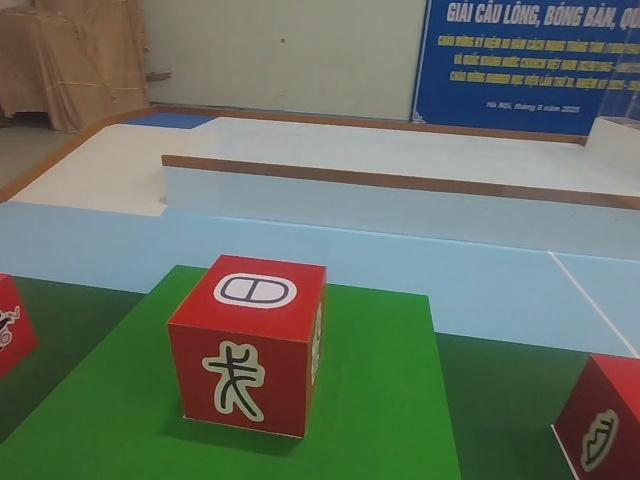R2 Fake: (164, 252, 332, 441)
R2 Real: (552, 347, 639, 480)
